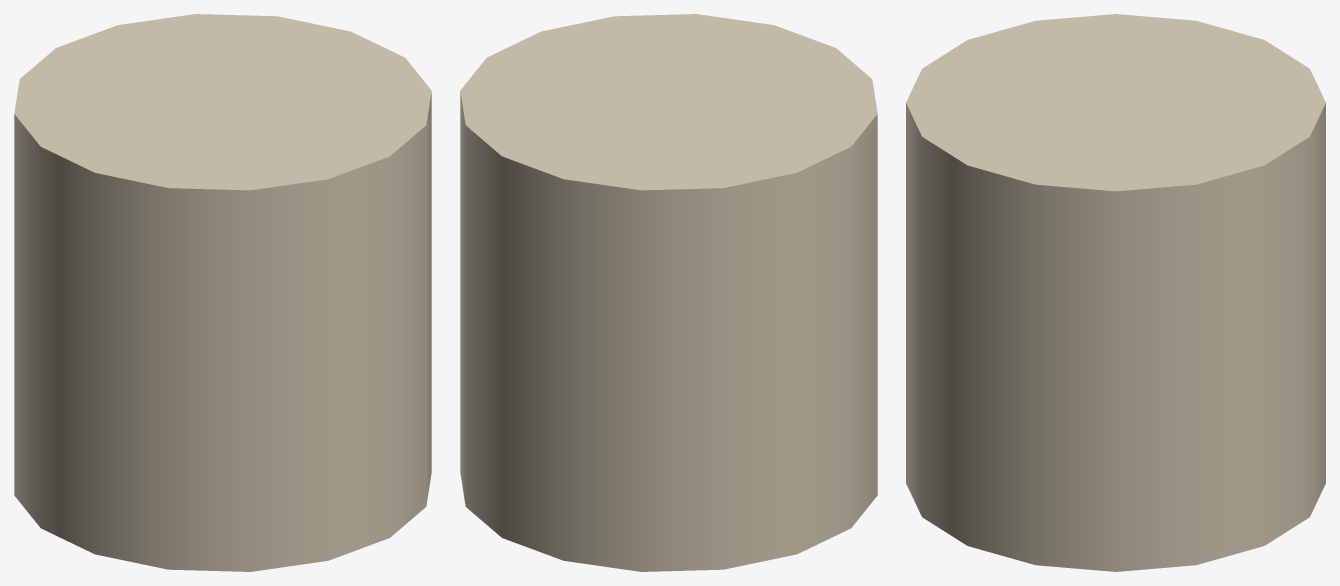
The picture shows the model from 3 angles, left to right: view 1: azimuth 30°, elevation 25°; view 2: azimuth 150°, elevation 25°; view 3: azimuth 270°, elevation 25°; orthographic projection.
Parts seen in each view (by area): view 1: cylinder-cream; view 2: cylinder-cream; view 3: cylinder-cream.
Boxes of the visible parts, left/top/right/bottom form: cylinder-cream: left=14, top=14, right=431, bottom=571; cylinder-cream: left=460, top=14, right=877, bottom=571; cylinder-cream: left=906, top=14, right=1325, bottom=571.
Size of the model in its own units: 1 by 1 by 1.
